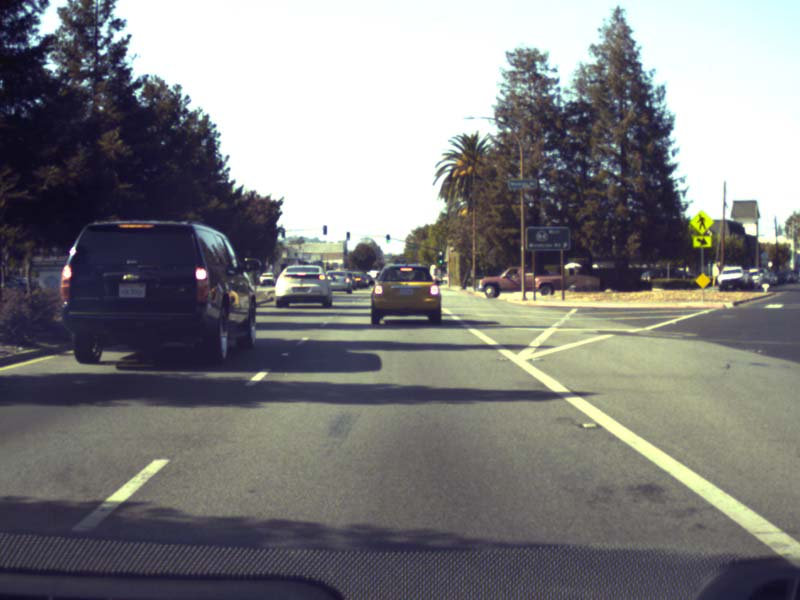Green: (437, 249, 443, 264), (386, 234, 389, 242)
